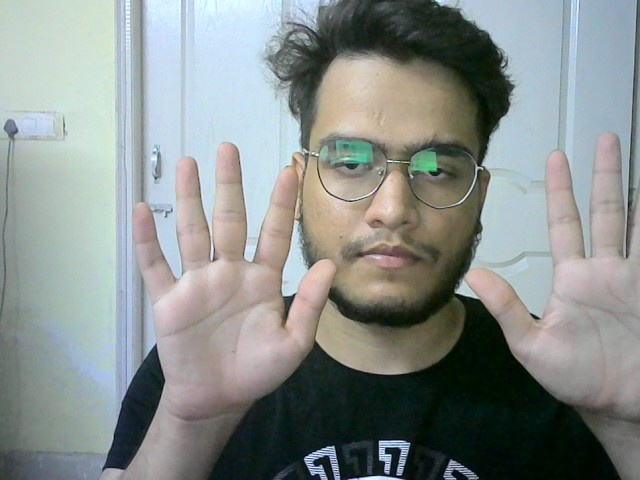Hello: (133, 136, 333, 408)
